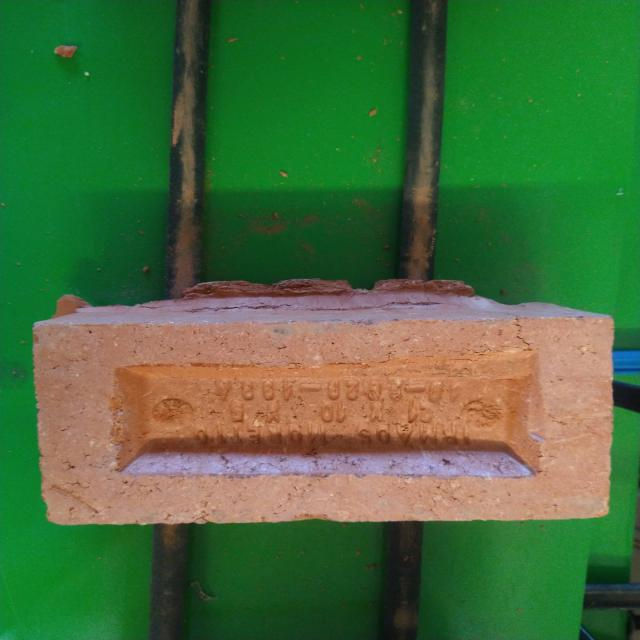bricks_ruin: (33, 279, 613, 524)
